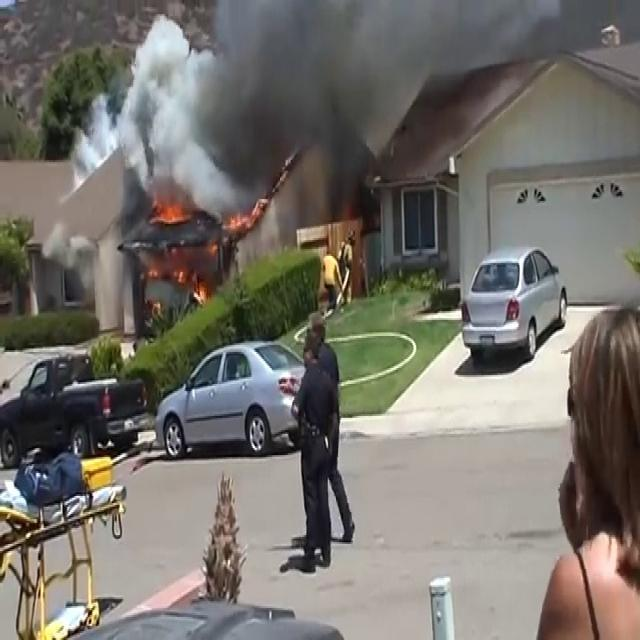Fire: (148, 197, 190, 230)
Smoke: (83, 1, 384, 216)
